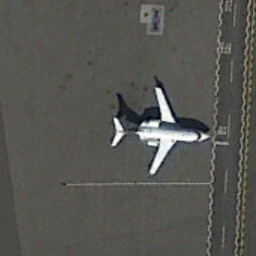Airplane: (104, 73, 221, 182)
